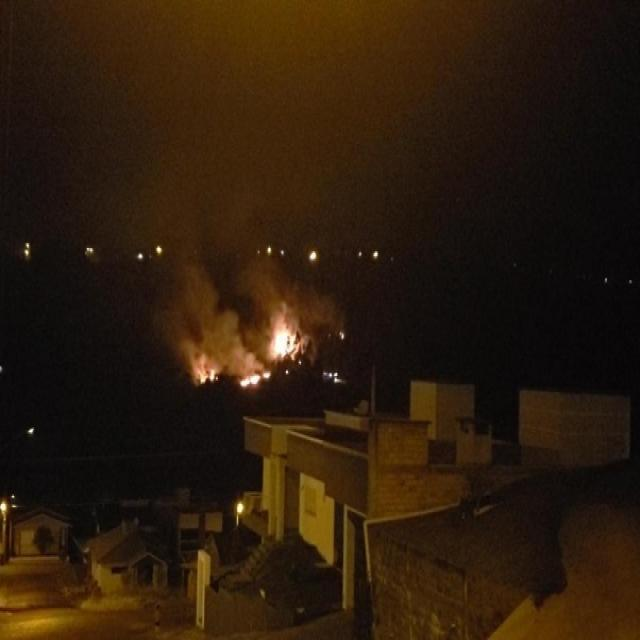Fire: (269, 320, 297, 355), (237, 370, 271, 390), (196, 366, 218, 384)
Smoke: (185, 264, 236, 332), (228, 336, 266, 372), (181, 333, 216, 363)
